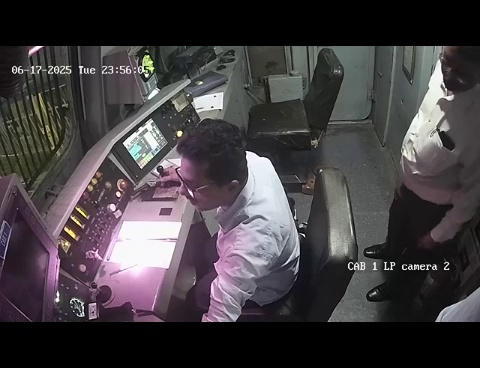horn_inactive: (82, 272, 123, 314)
